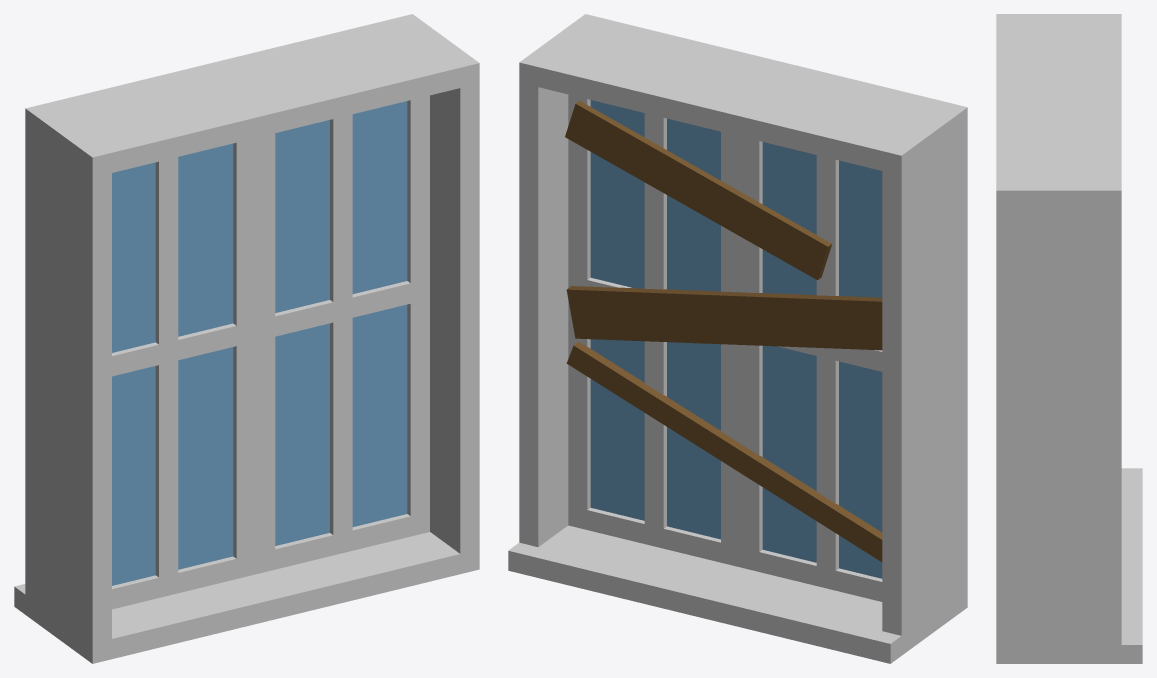
File: Window.fbx
3 renders of one model, left to right at view 1: azimuth 30°, elevation 25°; view 2: azimuth 150°, elevation 25°; view 3: azimuth 270°, elevation 25°, orthographic. The views are drawn at different scales.
Visible parts, largest first — view 1: Cube; view 2: Cube; view 3: Cube.
Boxes of the visible parts, x1,y1,x2,y2 form: Cube: [14, 14, 479, 663]; Cube: [508, 14, 967, 663]; Cube: [996, 14, 1142, 663].
Size of the model in its own units: 60 by 75 by 21.
